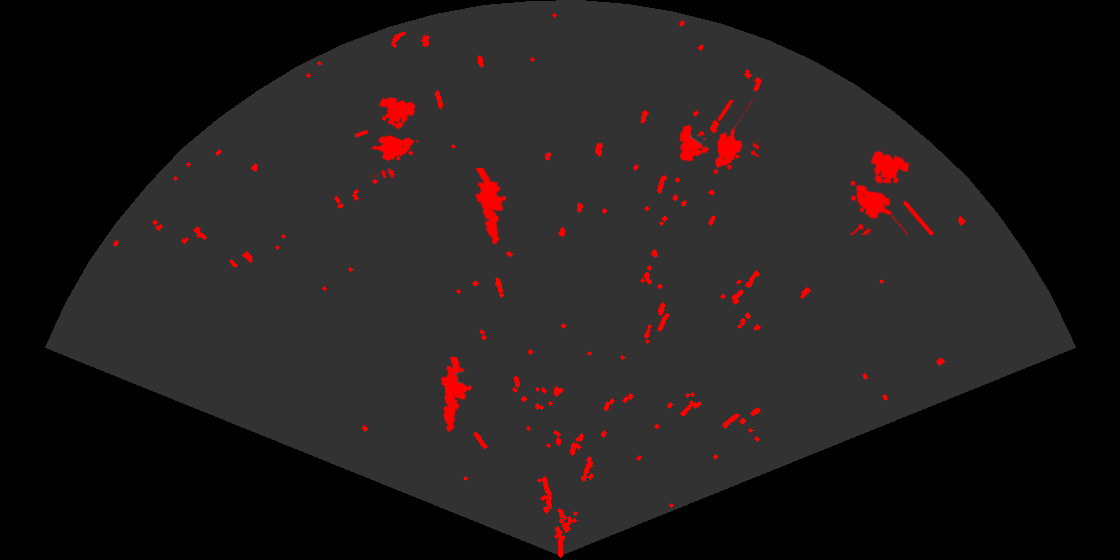cage: (848, 149, 933, 235), (678, 100, 759, 176), (355, 95, 419, 178)
frogman: (473, 168, 508, 246), (439, 357, 473, 434)
